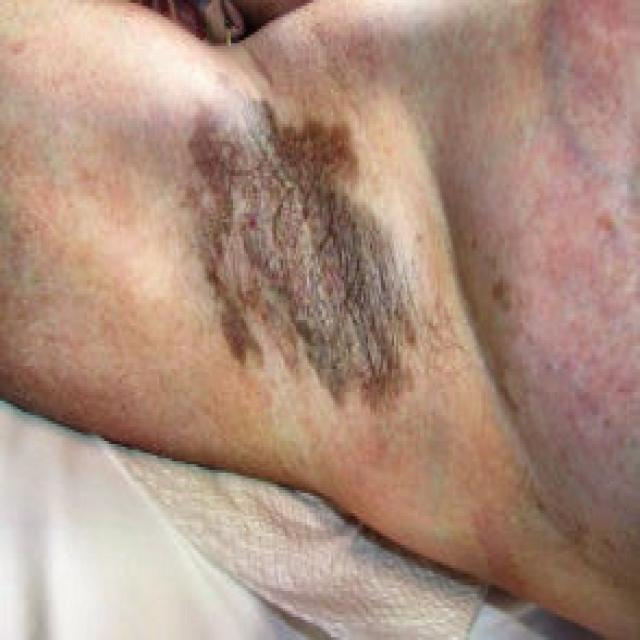Psoriasis-pictures-Lichen-Planus: (182, 113, 435, 429)
